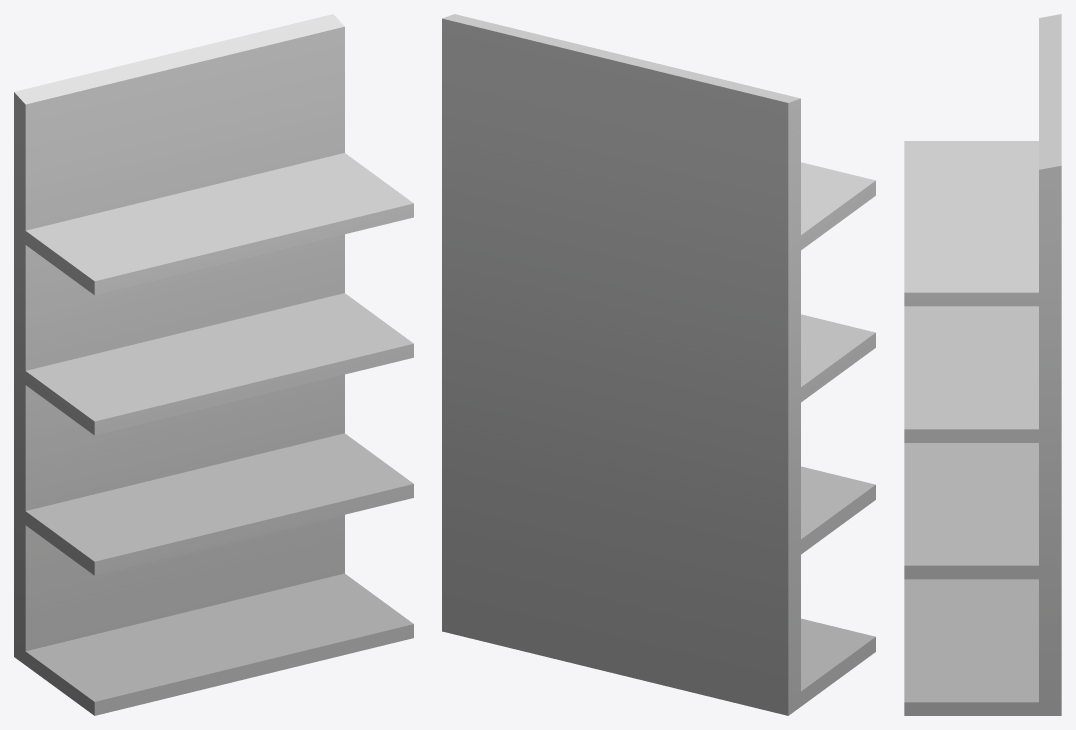
Rendered from case_short_single.fbx.
3 renders of one model, left to right at view 1: azimuth 30°, elevation 25°; view 2: azimuth 150°, elevation 25°; view 3: azimuth 270°, elevation 25°, orthographic. The views are drawn at different scales.
Parts seen in each view (by area): view 1: case_short_single; view 2: case_short_single; view 3: case_short_single.
Boxes of the visible parts, left/top/right/bottom form: case_short_single: left=14, top=14, right=413, bottom=715; case_short_single: left=442, top=14, right=875, bottom=715; case_short_single: left=904, top=14, right=1061, bottom=715.
Bounding box in the file's own units: 720 × 1218 × 315.
